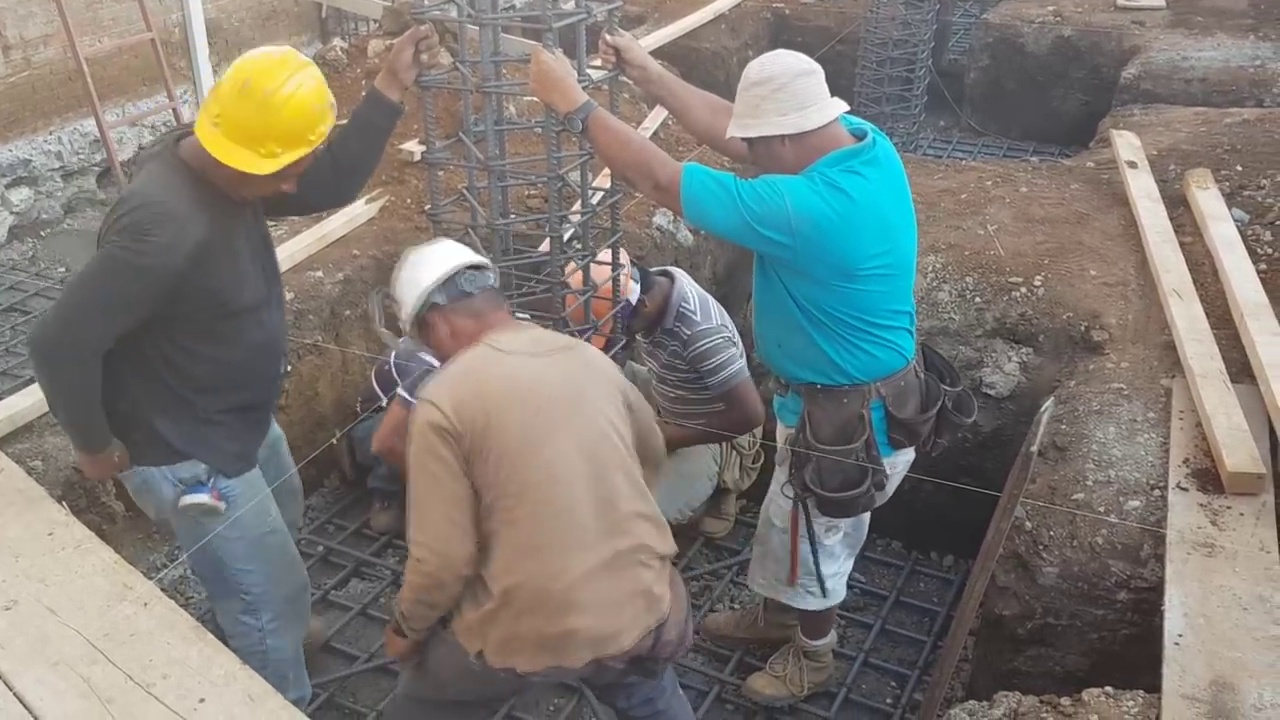helmet: (182, 43, 332, 180), (381, 235, 491, 347), (565, 242, 642, 324)
helmet-off: (723, 50, 854, 178)
helmet-on: (166, 40, 338, 218), (381, 221, 530, 364), (565, 235, 683, 347)
person: (14, 12, 456, 719), (528, 25, 938, 658), (375, 225, 690, 718), (564, 229, 769, 534)
